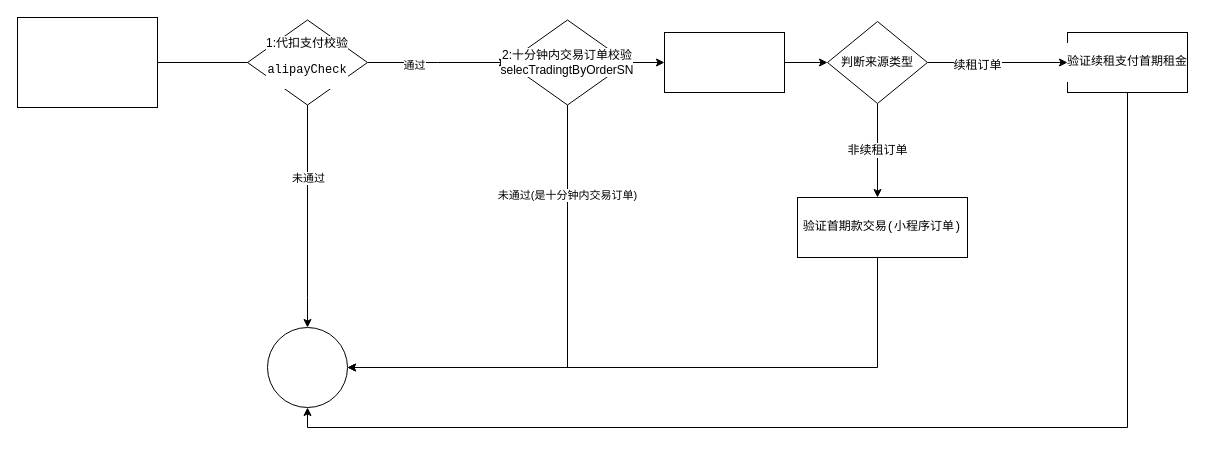
Image size: 1205x453. Some labels were removed from this diagram. Each missing label, with the box of its shape:
结束: (266, 326, 348, 408)
首期款预处理 TransactionRecord FirstRent: (16, 16, 158, 108)
验证交易: (664, 32, 784, 92)
